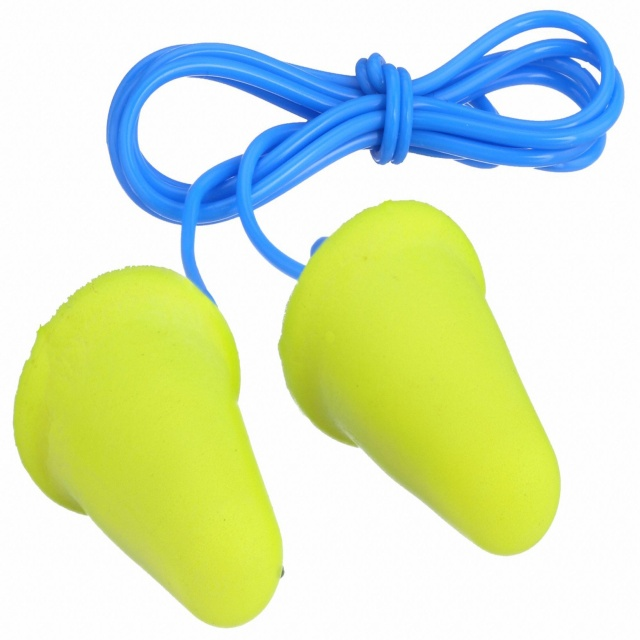Hearing_Protection: (307, 228, 539, 555), (29, 291, 275, 570)
